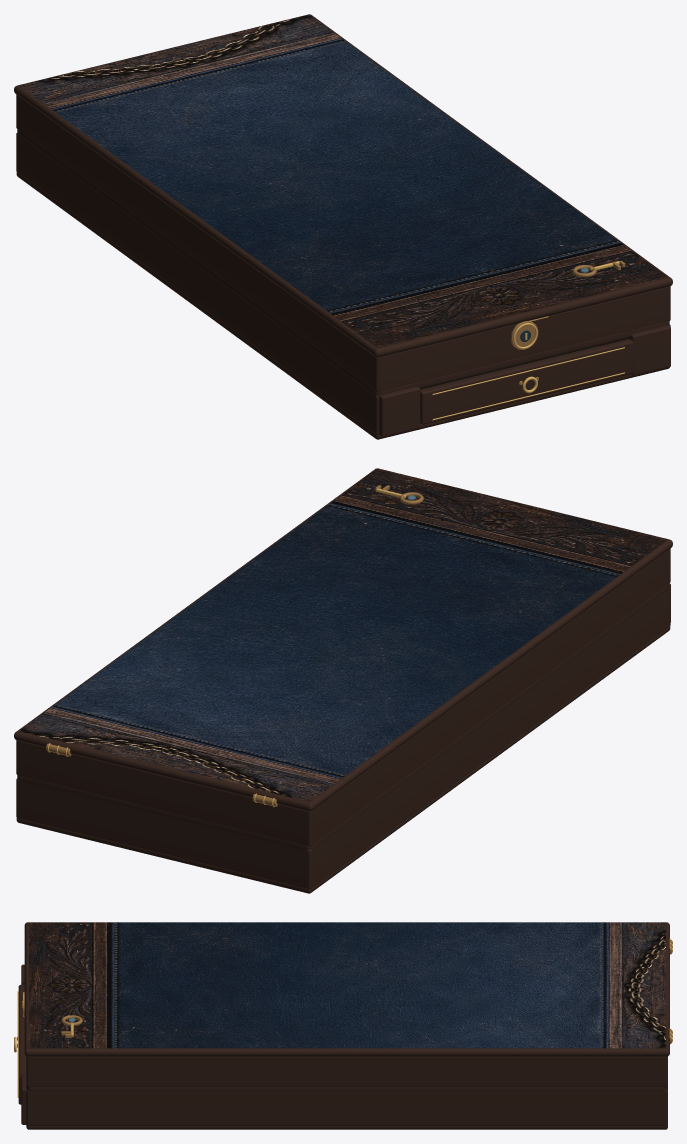
The model's file is arcane-desk-portrait-v1.glb.
3 renders of one model, top to bottom at view 1: azimuth 30°, elevation 25°; view 2: azimuth 150°, elevation 25°; view 3: azimuth 270°, elevation 25°, orthographic. The views are drawn at different scales.
Visible parts, largest first — view 1: OuterMatFace, UnderframeSide, CaseSide, CaseEnd, DeskLidCore, LightingDrawerFront, CaseBase, UnderframeBase, DrawerFrontSupport, DrawerFrontSupport.001; view 2: OuterMatFace, UnderframeSide, CaseSide, UnderframeBack, CaseEnd.001, DeskLidCore, CaseBase, UnderframeBase; view 3: OuterMatFace, UnderframeSide.001, CaseSide.001, DeskLidCore, CaseBase, UnderframeBase, LightingDrawerFront.
Part boxes in pixels (x1=…): OuterMatFace: x1=19, y1=14, x2=667, y2=347; UnderframeSide: x1=16, y1=133, x2=379, y2=434; CaseSide: x1=16, y1=94, x2=383, y2=392; CaseEnd: x1=372, y1=286, x2=669, y2=391; DeskLidCore: x1=14, y1=14, x2=672, y2=357; LightingDrawerFront: x1=420, y1=339, x2=633, y2=424; CaseBase: x1=17, y1=129, x2=669, y2=396; UnderframeBase: x1=16, y1=172, x2=669, y2=439; DrawerFrontSupport: x1=379, y1=386, x2=420, y2=436; DrawerFrontSupport.001: x1=628, y1=325, x2=670, y2=375; OuterMatFace: x1=19, y1=468, x2=667, y2=801; UnderframeSide: x1=302, y1=587, x2=670, y2=888; CaseSide: x1=302, y1=548, x2=670, y2=846; UnderframeBack: x1=16, y1=778, x2=315, y2=888; CaseEnd.001: x1=16, y1=740, x2=314, y2=845; DeskLidCore: x1=14, y1=468, x2=672, y2=811; CaseBase: x1=17, y1=583, x2=669, y2=850; UnderframeBase: x1=16, y1=626, x2=670, y2=893; OuterMatFace: x1=28, y1=922, x2=665, y2=1048; UnderframeSide.001: x1=26, y1=1090, x2=667, y2=1125; CaseSide.001: x1=26, y1=1056, x2=667, y2=1087; DeskLidCore: x1=24, y1=922, x2=669, y2=1056; CaseBase: x1=26, y1=1086, x2=667, y2=1092; UnderframeBase: x1=26, y1=1125, x2=667, y2=1129; LightingDrawerFront: x1=18, y1=984, x2=26, y2=1104.
Bounding box in the file's own units: 6.68 × 2.07 × 14.38.
12 materials, 2 textured.
